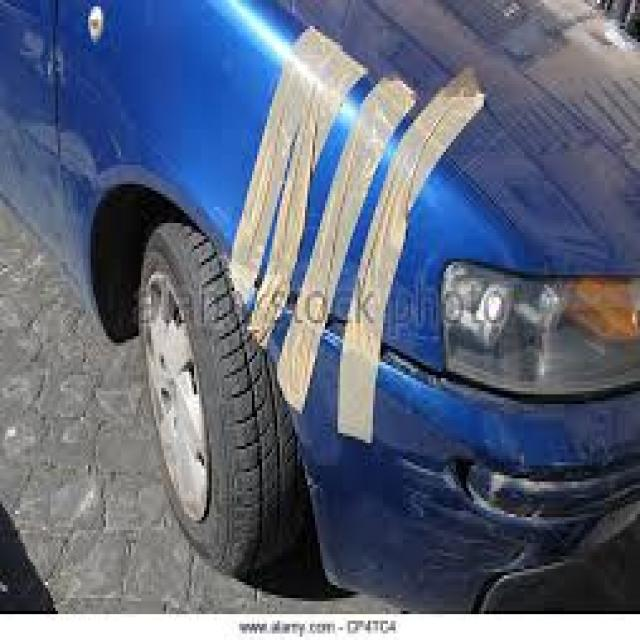minor: (222, 54, 507, 373), (336, 439, 640, 596)
